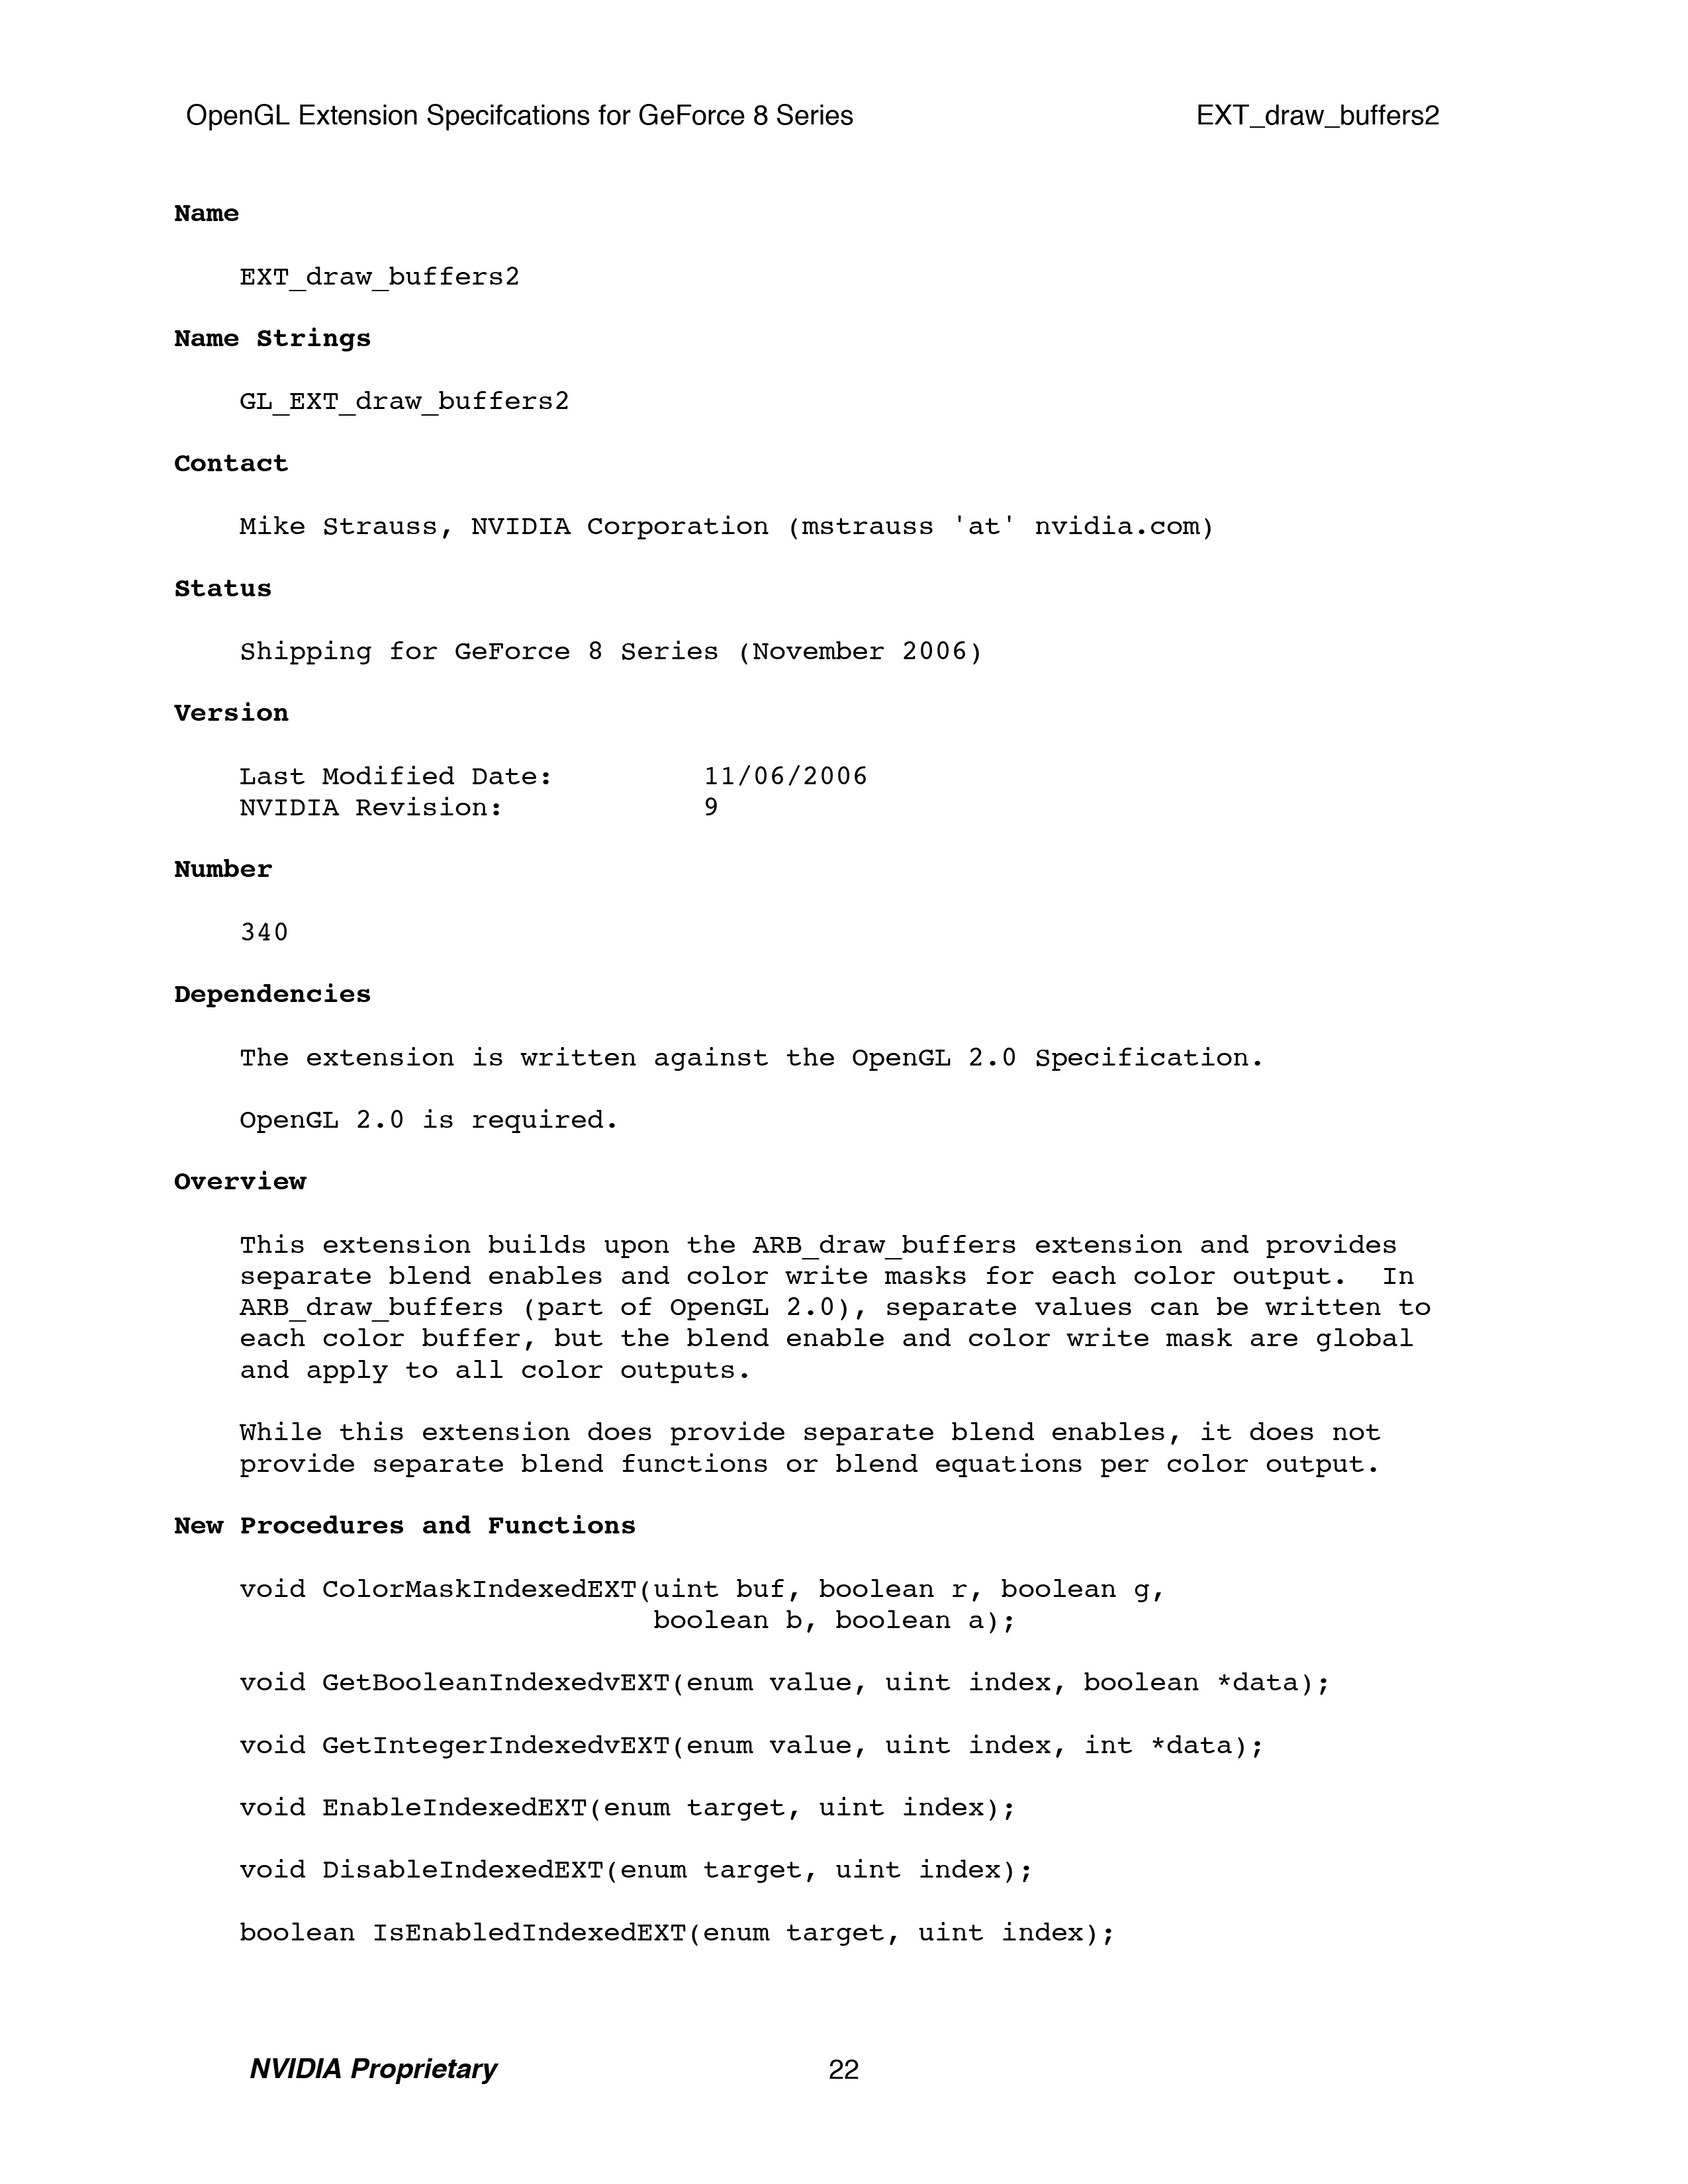section: (160, 1501, 649, 1565), (152, 307, 390, 369), (152, 963, 402, 1016), (160, 1138, 330, 1209), (160, 846, 300, 906), (147, 553, 291, 610), (137, 698, 314, 739), (147, 436, 316, 473), (156, 204, 284, 230)
table: (232, 752, 888, 830)
text: (227, 1578, 1339, 1957), (223, 1225, 1452, 1379), (227, 1395, 1399, 1512), (231, 1035, 1262, 1138), (232, 1035, 1273, 1119), (232, 493, 1236, 562), (170, 76, 862, 149), (227, 633, 995, 682), (231, 379, 580, 433), (231, 253, 557, 307)
